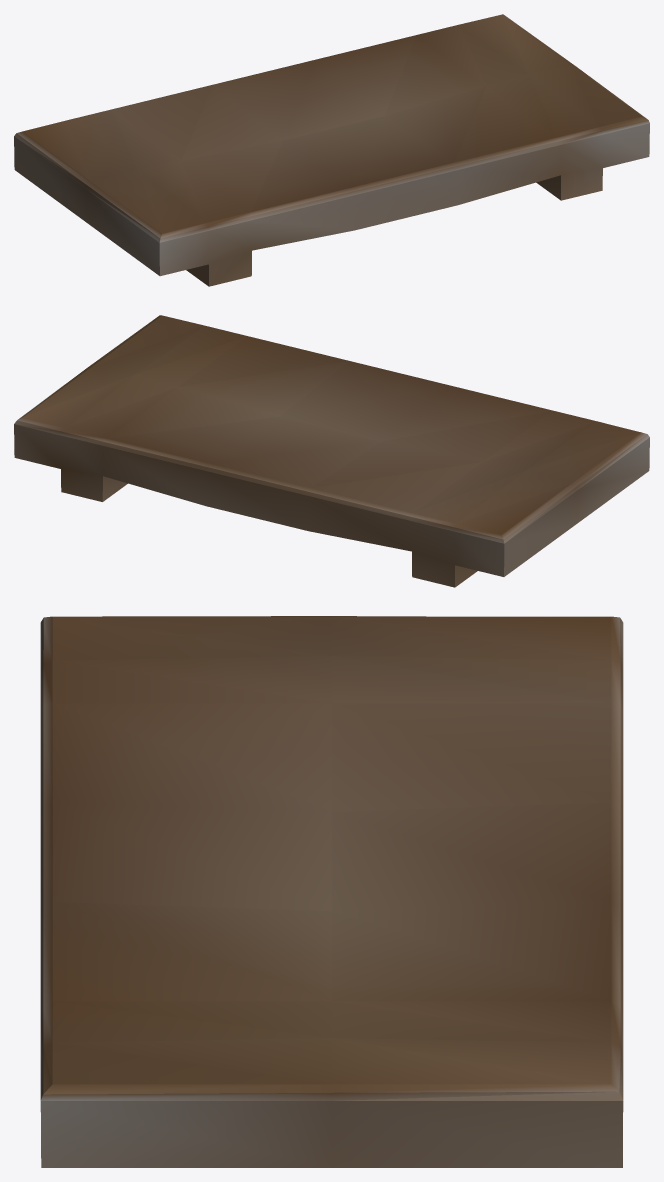
File: kitchen_board_6e929316.glb
3 renders of one model, top to bottom at view 1: azimuth 30°, elevation 25°; view 2: azimuth 150°, elevation 25°; view 3: azimuth 270°, elevation 25°, orthographic. The views are drawn at different scales.
Visible parts, largest first — view 1: SM_Kitchen_Board_M_Kitchen_Board_0; view 2: SM_Kitchen_Board_M_Kitchen_Board_0; view 3: SM_Kitchen_Board_M_Kitchen_Board_0.
Part boxes in pixels (left/top/right/bottom): SM_Kitchen_Board_M_Kitchen_Board_0: left=14, top=14, right=649, bottom=286; SM_Kitchen_Board_M_Kitchen_Board_0: left=14, top=315, right=649, bottom=587; SM_Kitchen_Board_M_Kitchen_Board_0: left=40, top=616, right=623, bottom=1167.
Size of the model in its own units: 0.63 by 0.0791 by 0.324.
